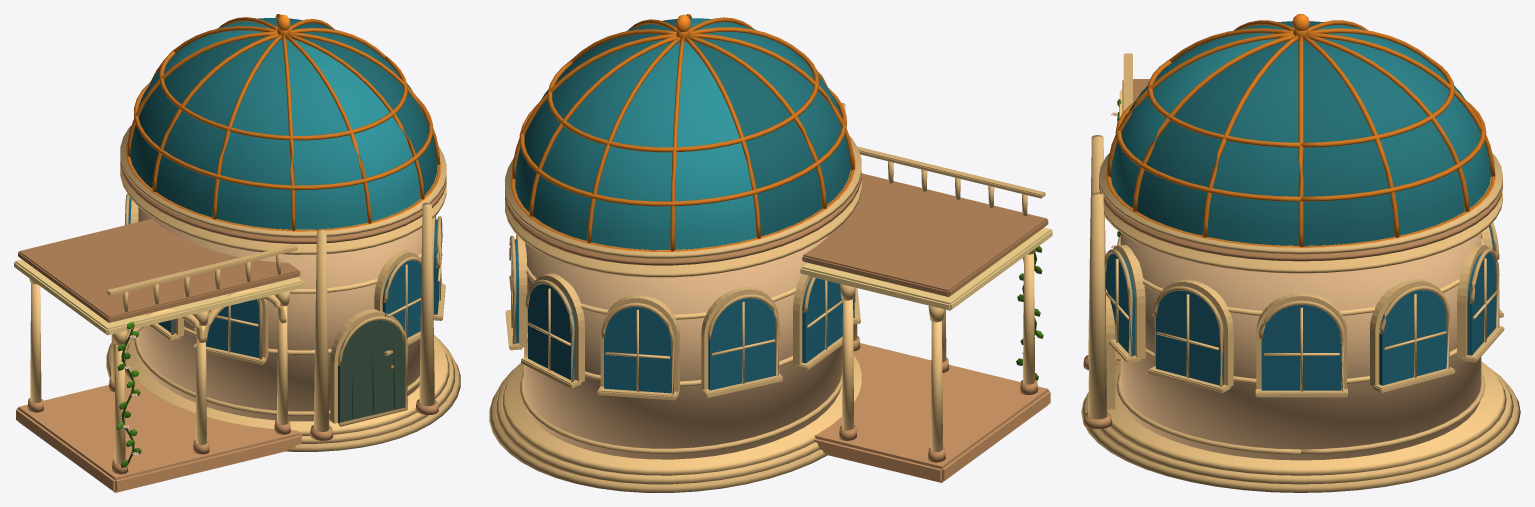
The model's file is observatory.glb.
The picture shows the model from 3 angles, left to right: view 1: azimuth 30°, elevation 25°; view 2: azimuth 150°, elevation 25°; view 3: azimuth 270°, elevation 25°; orthographic projection. The views are drawn at different scales.
Parts seen in each view (by area): view 1: observatory; view 2: observatory; view 3: observatory.
Part boxes in pixels (<box>): observatory: <box>14,14,460,492</box>; observatory: <box>489,14,1052,492</box>; observatory: <box>1081,14,1520,492</box>.
Size of the model in its own units: 10 by 8.4 by 8.4.
